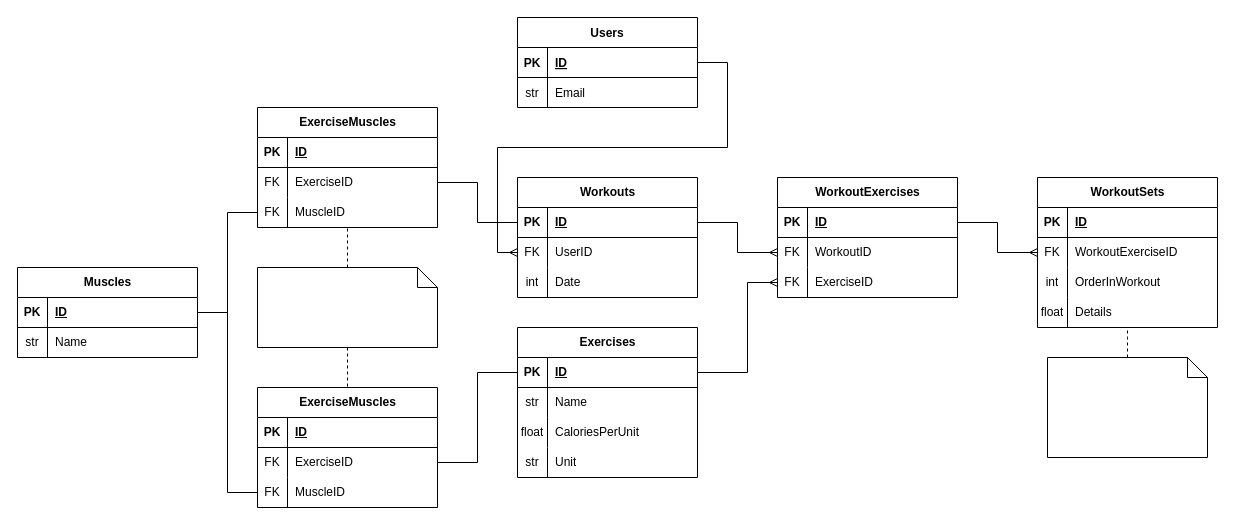
Image size: 1235x525. Some labels were removed from this diagram. Here are the shapes that lost their labels. From the top down, the centre of each, then its label:
At point 347,307: "This is a junction table, and its relations are therefore 1-1".
At point 1127,407: "Details describe the set: reps, time, distance".
